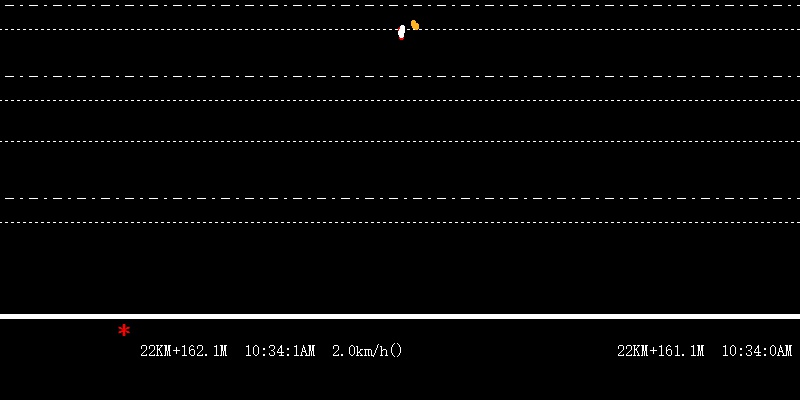face_1: (408, 16, 419, 32)
face_s: (397, 20, 406, 42)
star: (116, 321, 131, 339)
